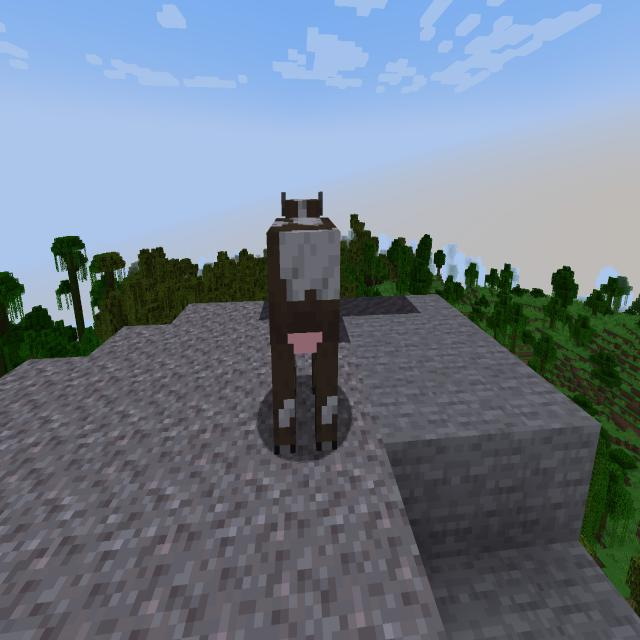cow: (257, 178, 352, 472)
